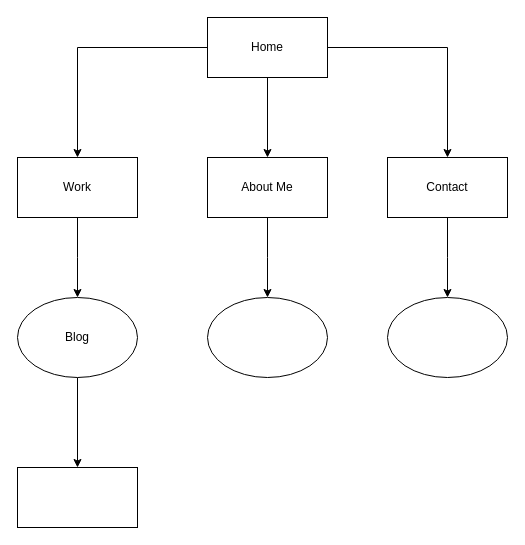
The diagram is 525 pixels wide and 545 high, and some of its shapes have lost their labels. Here are the shapes that lost their labels. From the top down, the centre of each, then its label:
the point at 267,337: BIO Work history Resume link (PDF)
the point at 447,337: Contact Form
the point at 77,497: 5x Blog Pages
